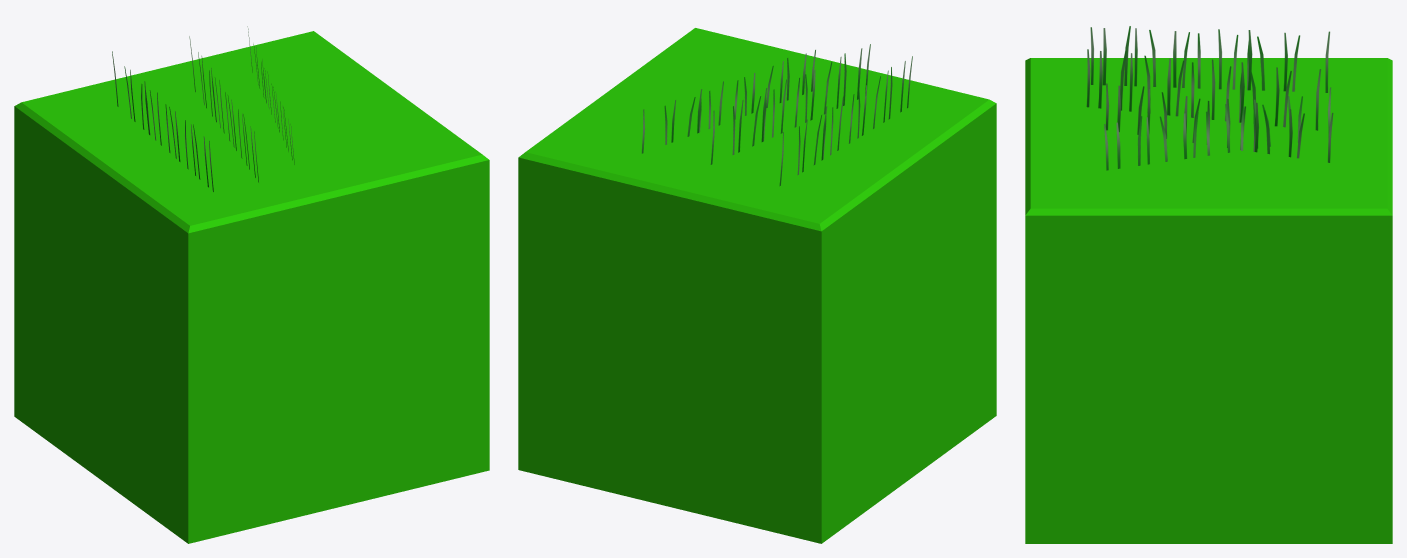
Rendered from grass.glb.
The picture shows the model from 3 angles, left to right: view 1: azimuth 30°, elevation 25°; view 2: azimuth 150°, elevation 25°; view 3: azimuth 270°, elevation 25°; orthographic projection. The views are drawn at different scales.
Visible parts, largest first — view 1: Grass; view 2: Grass; view 3: Grass.
Part boxes in pixels (box(x1,y1,x2,y2)): Grass: box(14, 26, 489, 543); Grass: box(518, 28, 996, 543); Grass: box(1025, 26, 1392, 543).
Bounding box in the file's own units: 2 × 2.41 × 2.
Materials: 2 (1 with a texture image).
